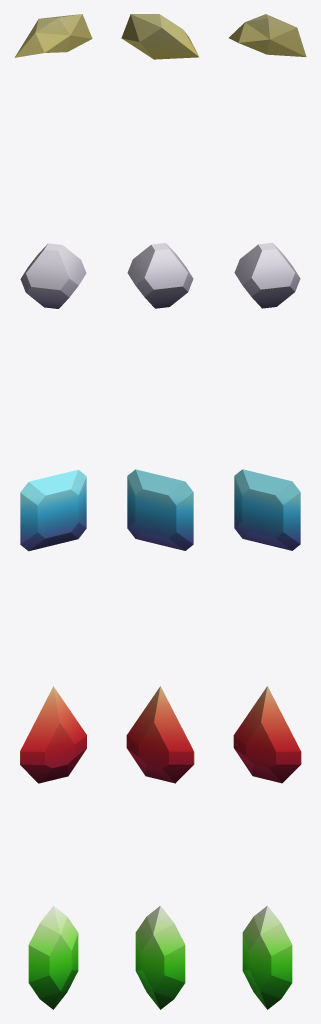
File: shiny_rocks.glb
3 renders of one model, left to right at view 1: azimuth 30°, elevation 25°; view 2: azimuth 150°, elevation 25°; view 3: azimuth 330°, elevation 25°, orthographic.
Visible parts, largest first — view 1: Sapphire, Ruby, Emerald, Iron, Sulfur; view 2: Sapphire, Ruby, Emerald, Iron, Sulfur; view 3: Sapphire, Ruby, Emerald, Iron, Sulfur.
Part boxes in pixels (x1,y1,x2,y2): Sapphire: [20, 469, 86, 551]; Ruby: [20, 686, 86, 783]; Emerald: [28, 906, 78, 1009]; Iron: [20, 243, 86, 308]; Sulfur: [14, 14, 92, 57]; Sapphire: [127, 469, 193, 550]; Ruby: [126, 686, 194, 783]; Emerald: [135, 906, 185, 1009]; Iron: [127, 243, 193, 308]; Sulfur: [121, 14, 198, 59]; Sapphire: [234, 469, 300, 550]; Ruby: [233, 686, 301, 783]; Emerald: [242, 905, 292, 1009]; Iron: [234, 242, 300, 308]; Sulfur: [229, 14, 306, 56].
Size of the model in its own units: 0.1764 by 2.14 by 0.125.
Materials: 2 (2 with a texture image).
